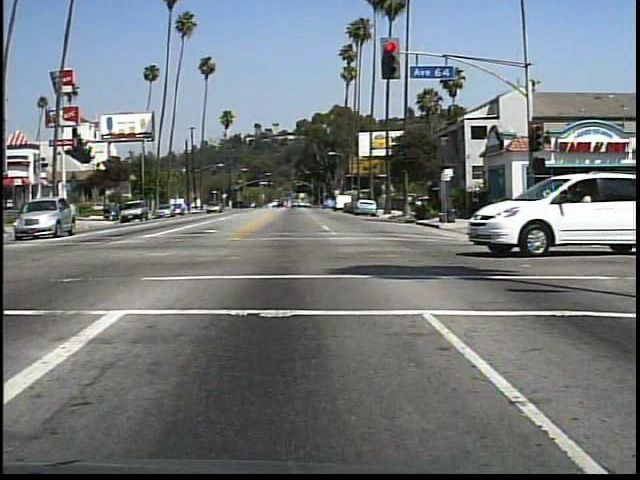person: (533, 186, 558, 235)
